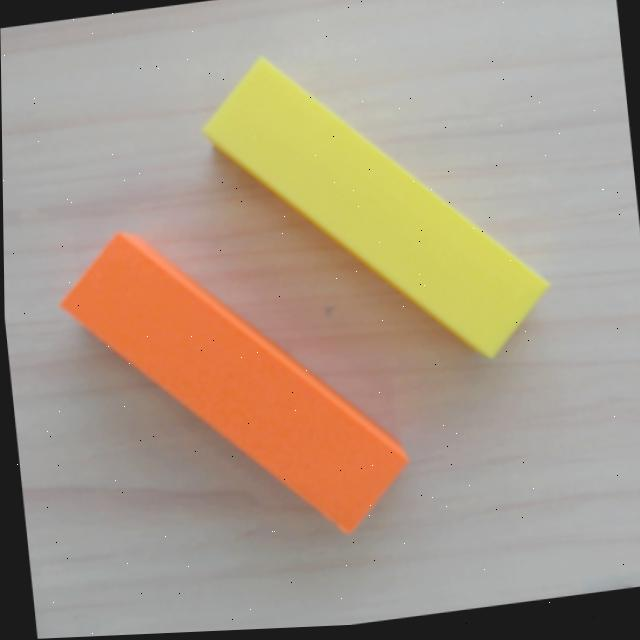Balok-Jingga-1002525: (56, 223, 413, 535)
Balok-Kuning-1002525: (198, 55, 550, 361)
